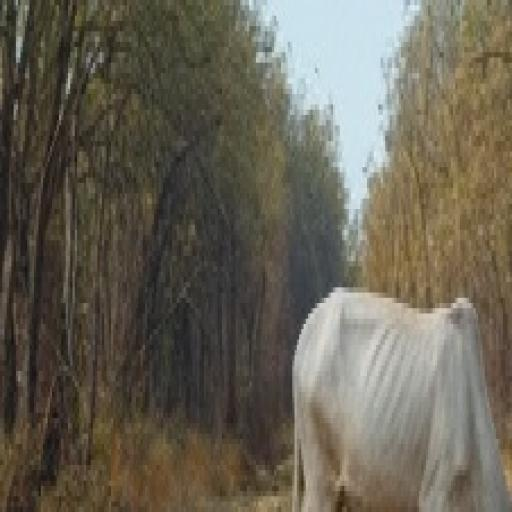camel: (286, 278, 512, 511)
